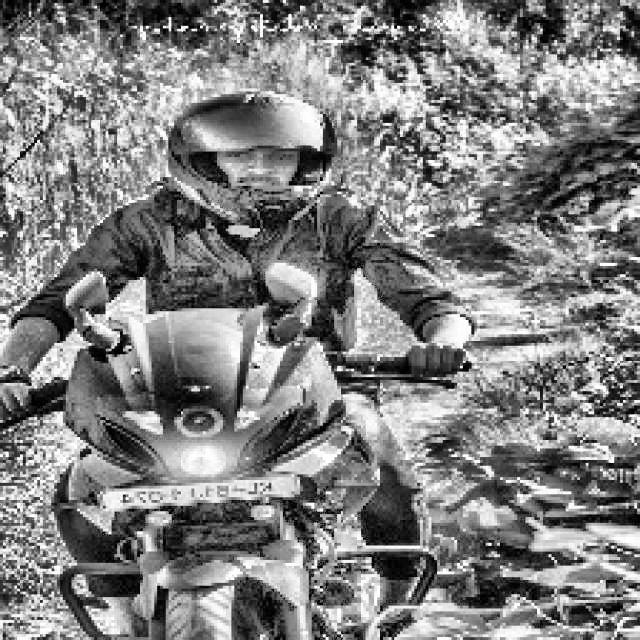motorcycle: (3, 257, 473, 640)
